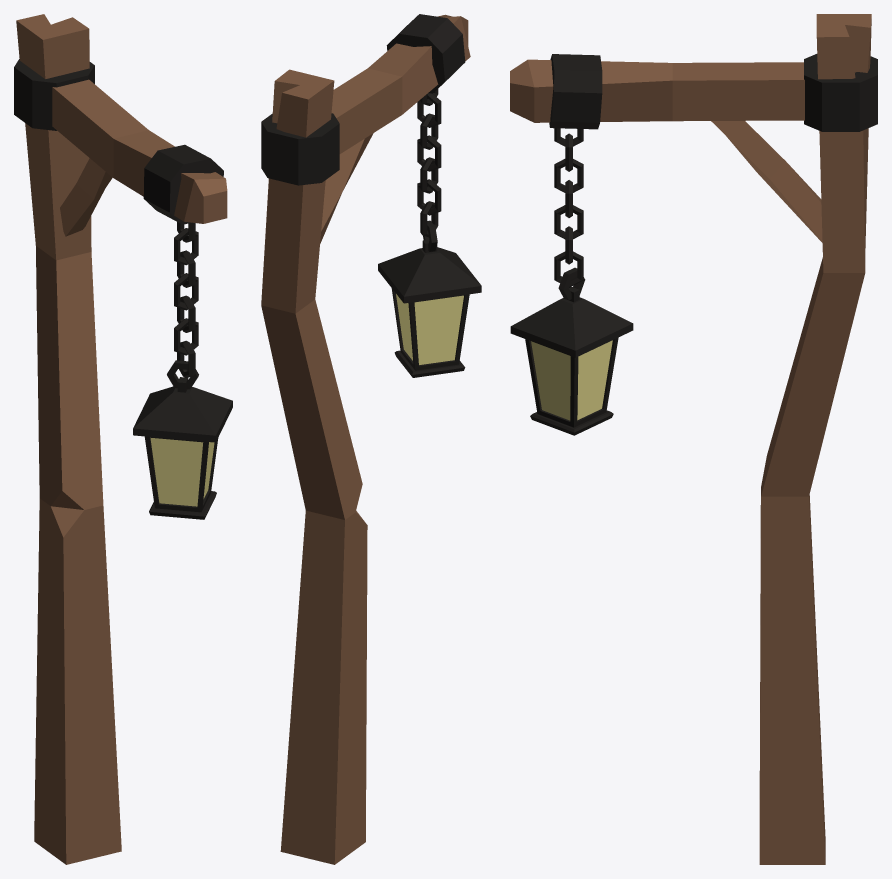
The model's file is Lamp_3.fbx.
3 renders of one model, left to right at view 1: azimuth 30°, elevation 25°; view 2: azimuth 150°, elevation 25°; view 3: azimuth 270°, elevation 25°, orthographic. The views are drawn at different scales.
Visible parts, largest first — view 1: Lamp_3; view 2: Lamp_3; view 3: Lamp_3.
Boxes of the visible parts, bbox=[...] form: Lamp_3: bbox=[14, 14, 232, 864]; Lamp_3: bbox=[261, 14, 481, 864]; Lamp_3: bbox=[510, 14, 877, 864].
Bounding box in the file's own units: 53.94 × 17.97 × 134.
